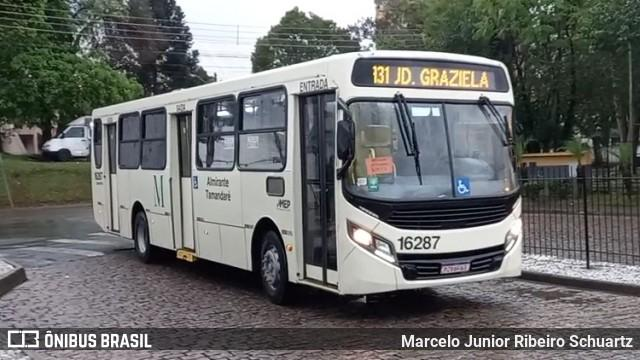JD GRAZIELA: (392, 64, 491, 90)
